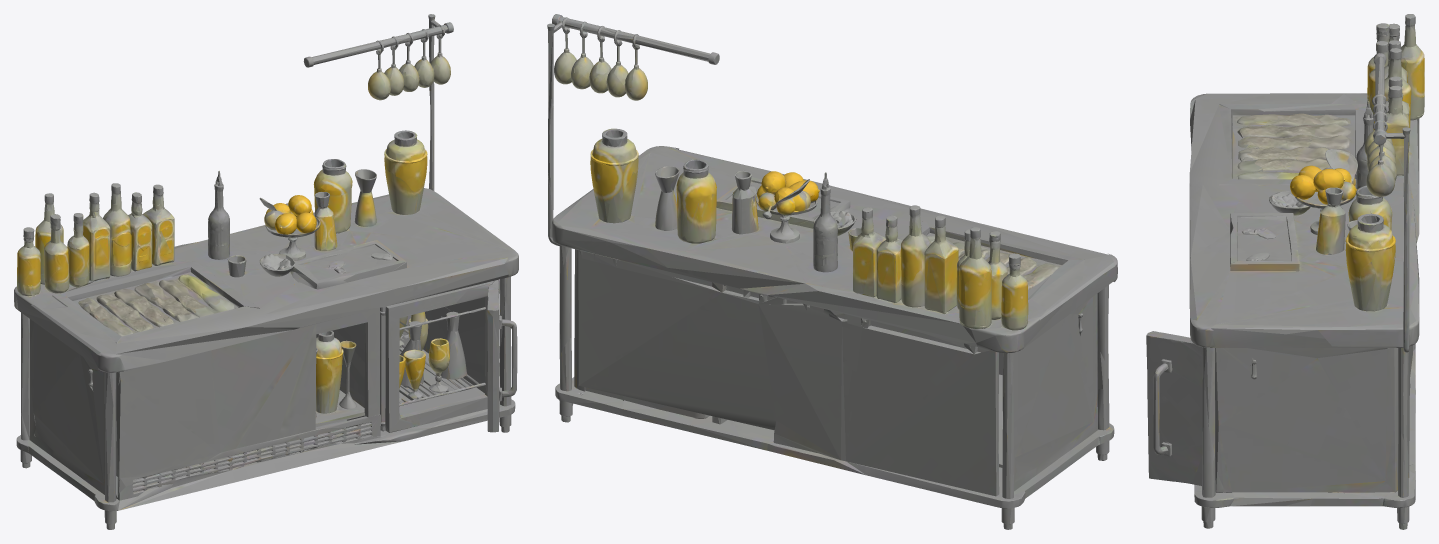
Rendered from srvBar.glb.
3 renders of one model, left to right at view 1: azimuth 30°, elevation 25°; view 2: azimuth 150°, elevation 25°; view 3: azimuth 270°, elevation 25°, orthographic. The views are drawn at different scales.
Bounding box in the file's own units: 1.9 × 1.5 × 0.9293.
Materials: 1 (1 with a texture image).
